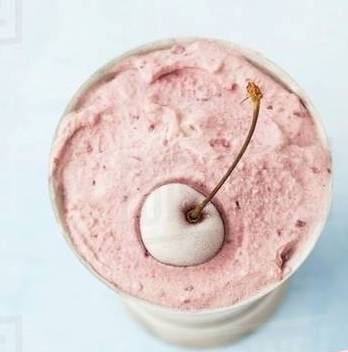ice-cream: (52, 41, 332, 313)
